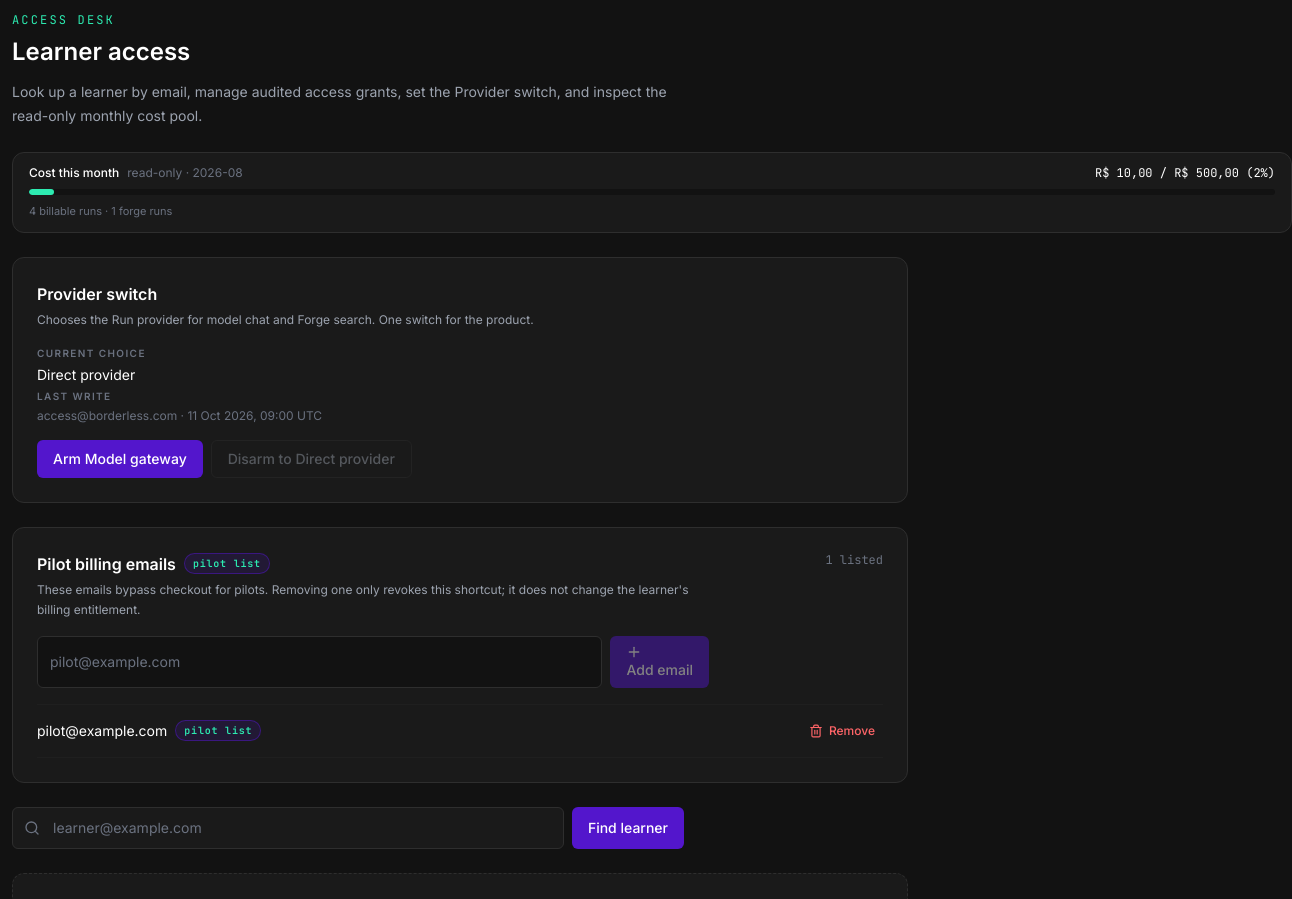
it: AccessDesk Provider switch › replaces the recorded writer after an arm and does not list earlier clicks
expect the text with test id "operator-provider-switch-writer" reads "access@borderless.com · 11 Oct 2026, 09:00 UTC": met, box [37,408,322,422]
Click the button with test id "operator-provider-switch-arm".
click(120, 458)  # box [37,440,203,478]
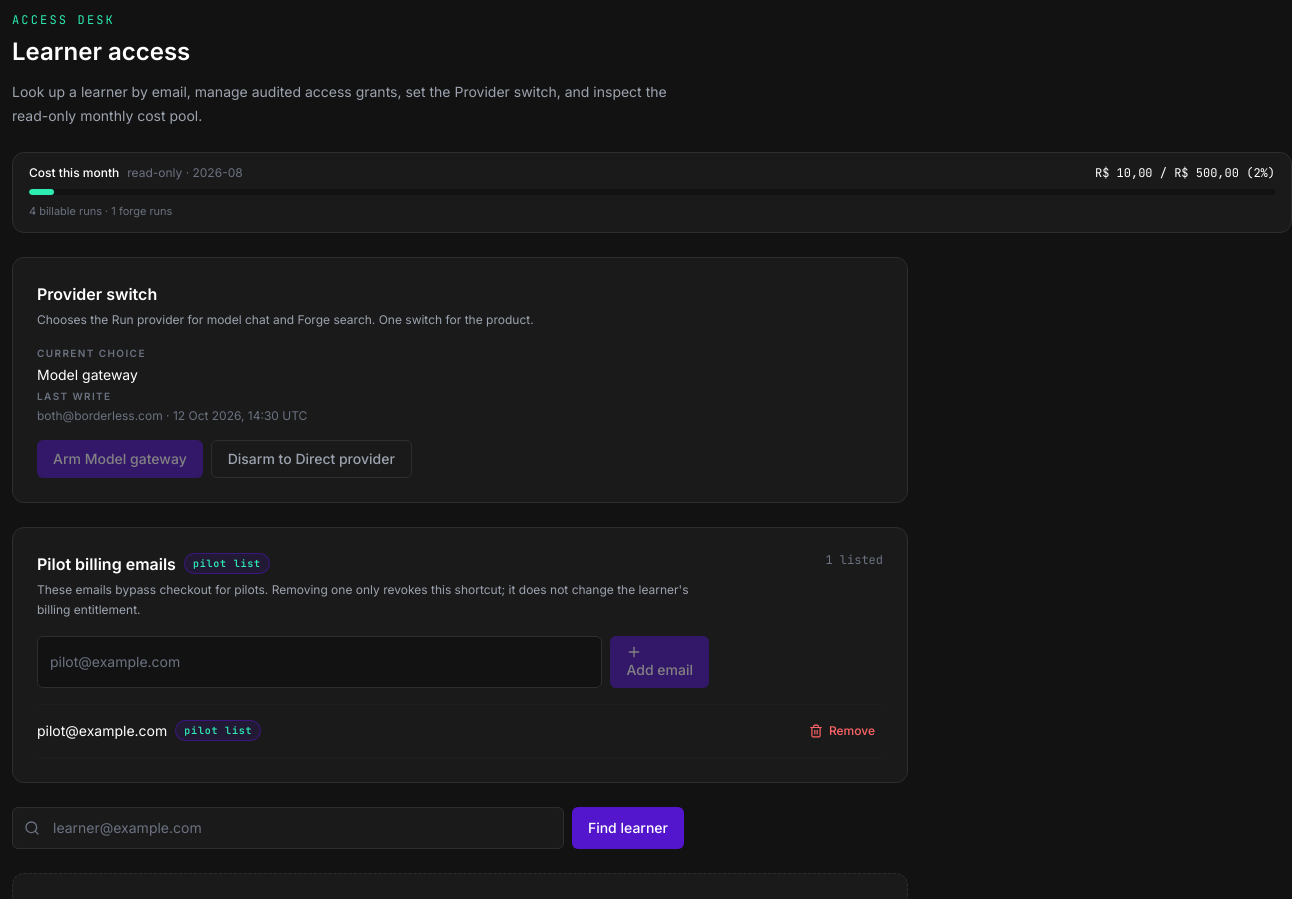
expect the text with test id "operator-provider-switch-choice" reads "Model gateway": met, box [37,366,138,382]
expect the text with test id "operator-provider-switch-writer" reads "both@borderless.com · 12 Oct 2026, 14:30 UTC": met, box [37,408,307,422]
expect the text "access@borderless.com" is gone: met
